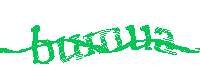a: (153, 26, 178, 55)
b: (30, 23, 55, 65)
m: (84, 28, 124, 55)
u: (55, 33, 83, 64), (125, 21, 153, 51)
